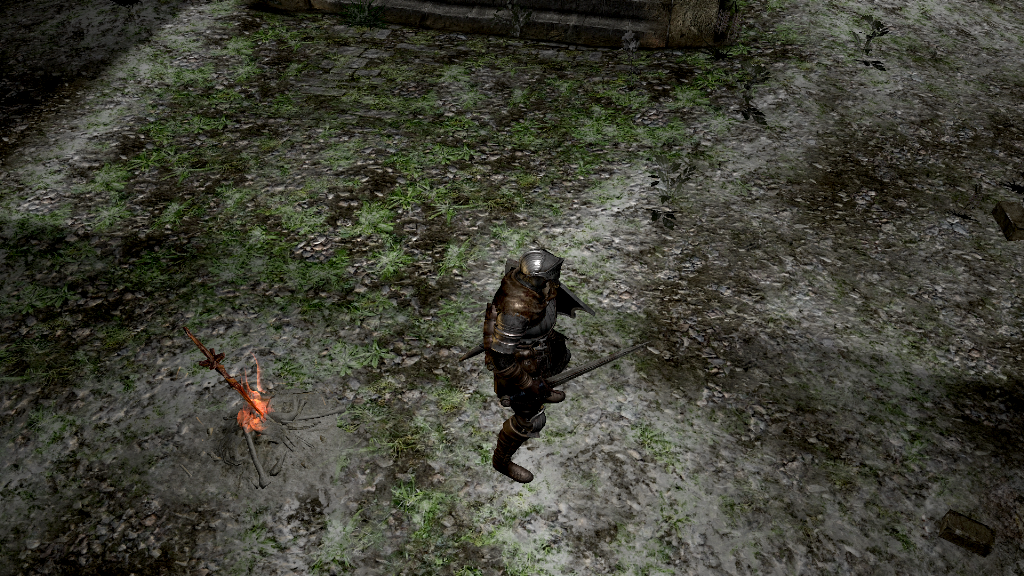bonfire: (176, 323, 297, 445)
player: (481, 247, 654, 484)
